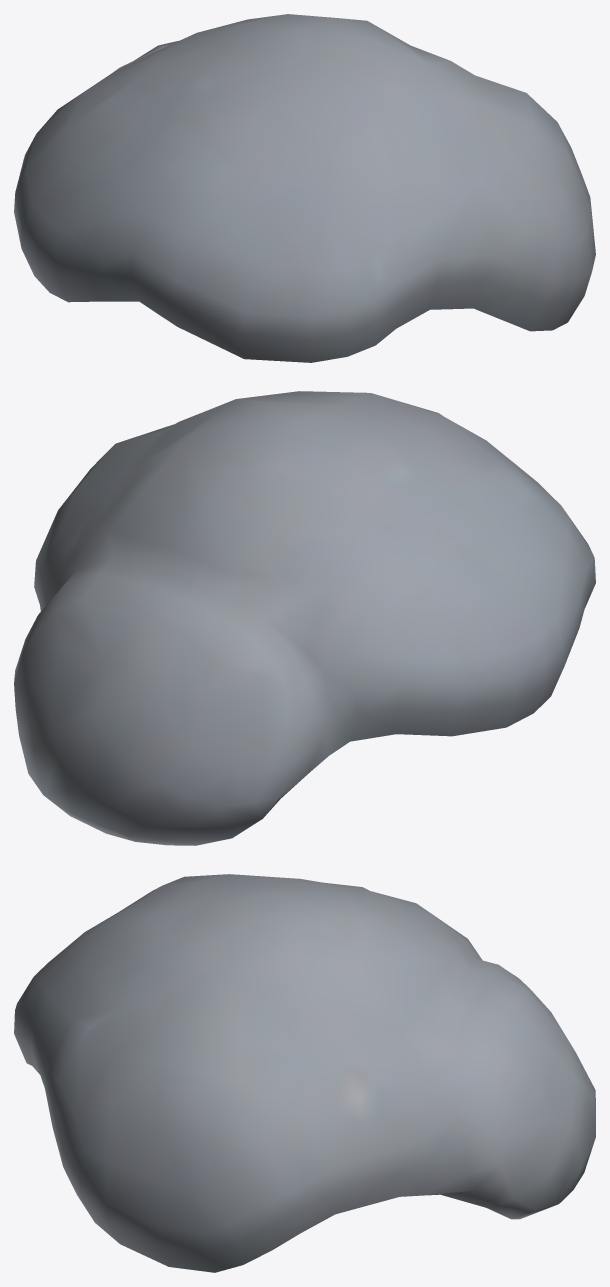
The model's file is pref_sm_beach_treesnow01_lv3.fbx.
The picture shows the model from 3 angles, top to bottom: view 1: azimuth 30°, elevation 25°; view 2: azimuth 150°, elevation 25°; view 3: azimuth 270°, elevation 25°; orthographic projection. The views are drawn at different scales.
Parts seen in each view (by area): view 1: pref_sm_beach_treesnow01_lv3; view 2: pref_sm_beach_treesnow01_lv3; view 3: pref_sm_beach_treesnow01_lv3.
Boxes of the visible parts, box(x1,y1,x2,y2) form: pref_sm_beach_treesnow01_lv3: box(14, 14, 595, 362); pref_sm_beach_treesnow01_lv3: box(14, 391, 595, 845); pref_sm_beach_treesnow01_lv3: box(14, 874, 595, 1272).
Size of the model in its own units: 2.66 by 1.52 by 2.79.
